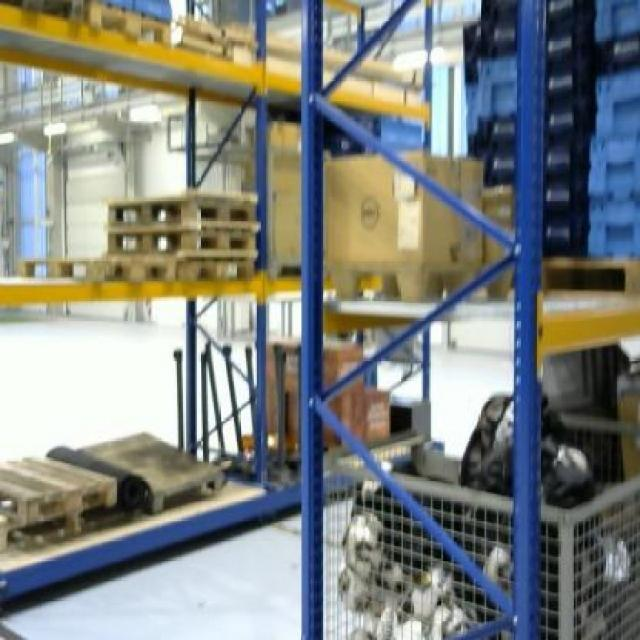box: (321, 154, 484, 266), (318, 394, 364, 446), (322, 344, 364, 393), (362, 388, 390, 437)
